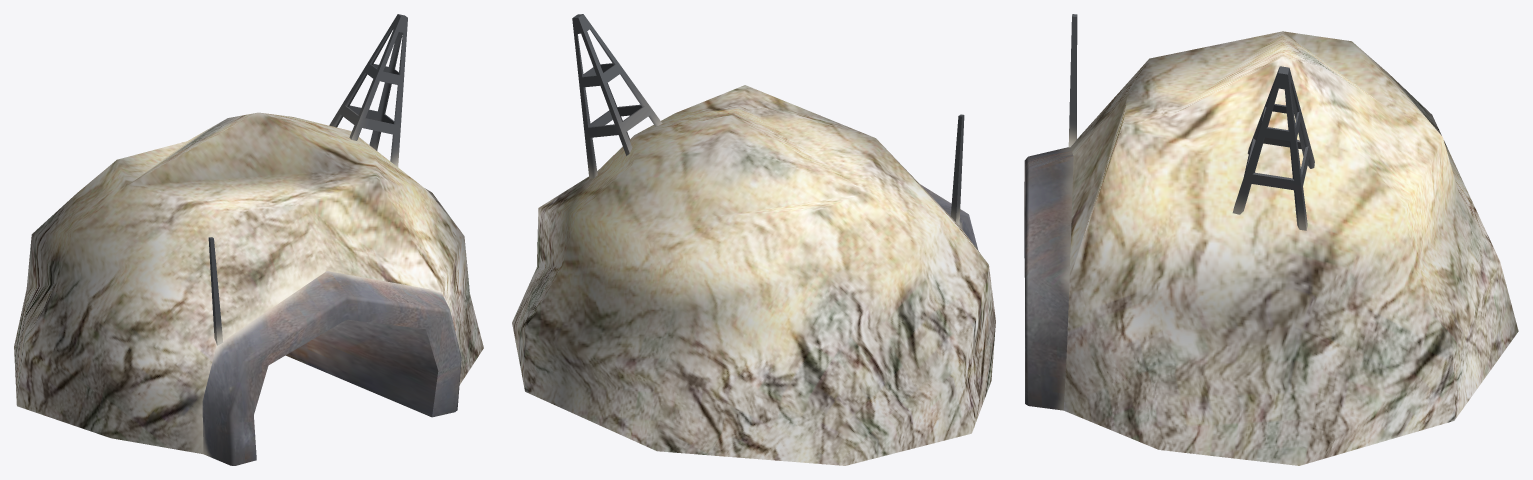
Rendered from TDGrotta.fbx.
3 renders of one model, left to right at view 1: azimuth 30°, elevation 25°; view 2: azimuth 150°, elevation 25°; view 3: azimuth 270°, elevation 25°, orthographic. The views are drawn at different scales.
Visible parts, largest first — view 1: polySurface18; view 2: polySurface18; view 3: polySurface18.
Boxes of the visible parts, box(x1,y1,x2,y2) form: polySurface18: box(14, 14, 483, 465); polySurface18: box(512, 14, 995, 465); polySurface18: box(1024, 14, 1518, 465).
Size of the model in its own units: 101 by 67.79 by 82.53.
